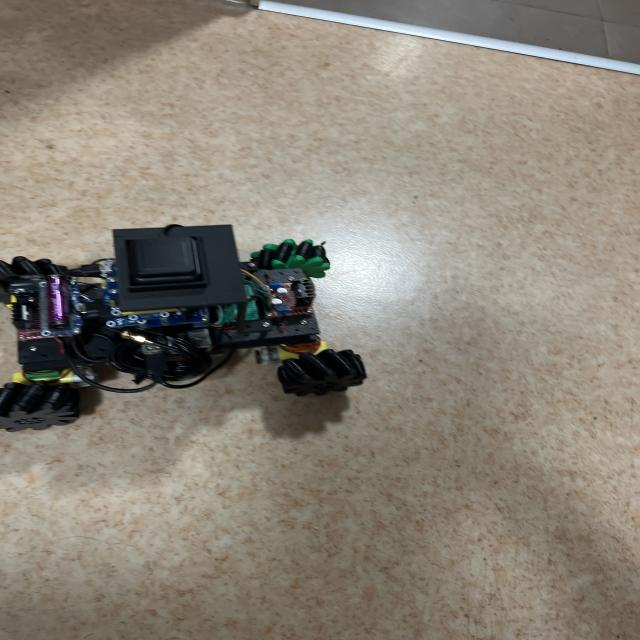robot: (0, 224, 366, 417)
